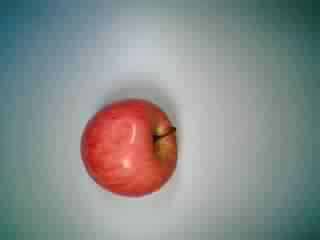apple: (76, 95, 183, 198)
